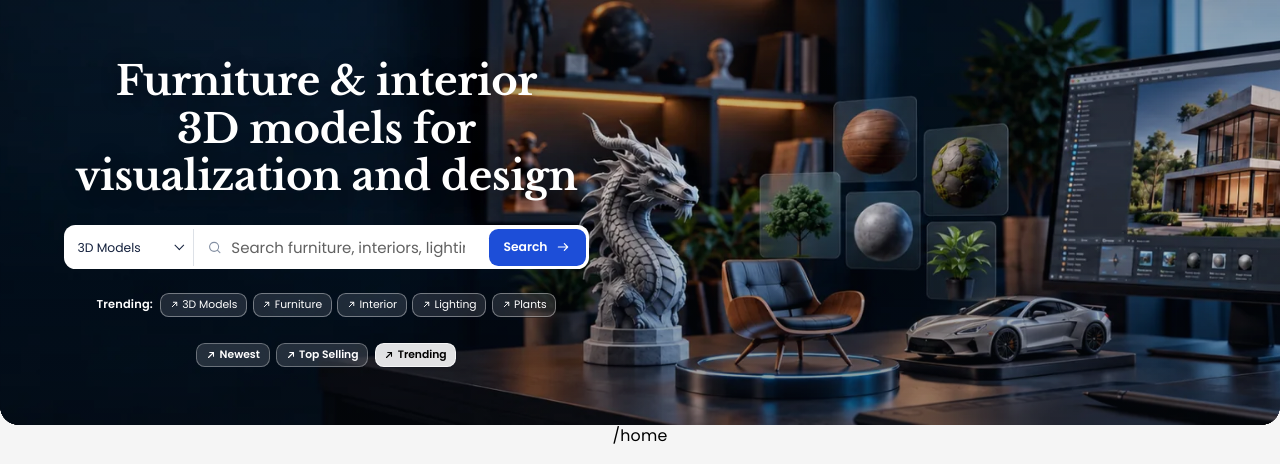
Scenario: MarketplaceHero › navigates when clicking trending chips and updates active state
Click the button "Furniture": [292, 305] box [253, 293, 332, 317]
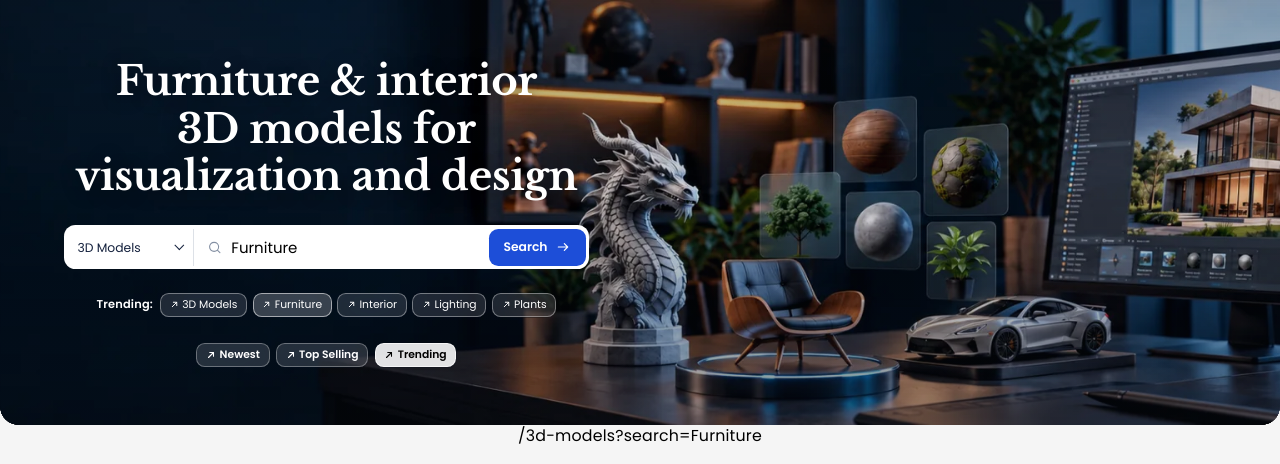
Check: the text with test id "location-probe" reads "/3d-models?search=Furniture", box [518, 424, 762, 447]
Click the button "Lighting": [449, 305] box [412, 293, 486, 317]
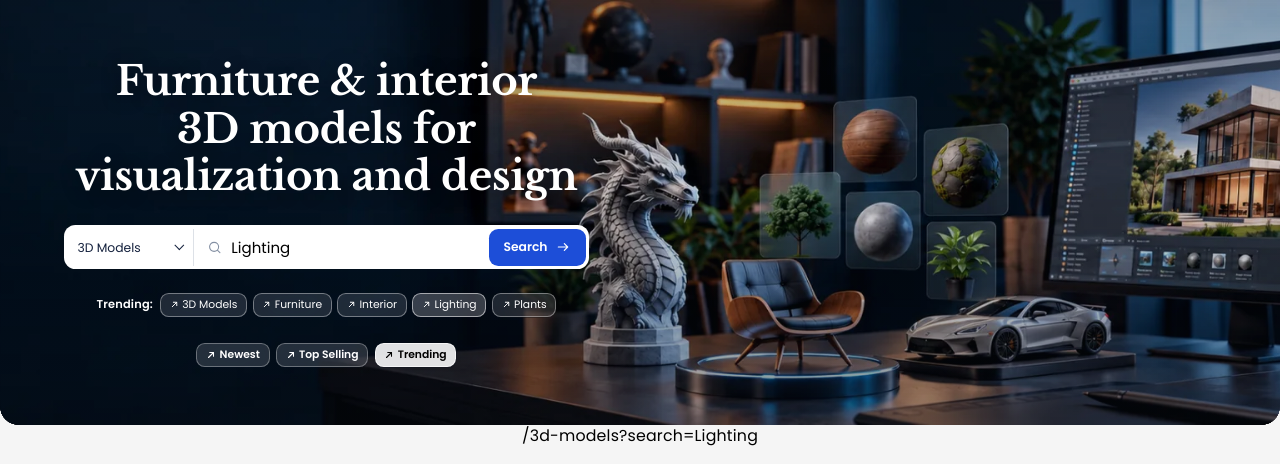
Check: the text with test id "location-probe" reads "/3d-models?search=Lighting", box [522, 424, 758, 447]
